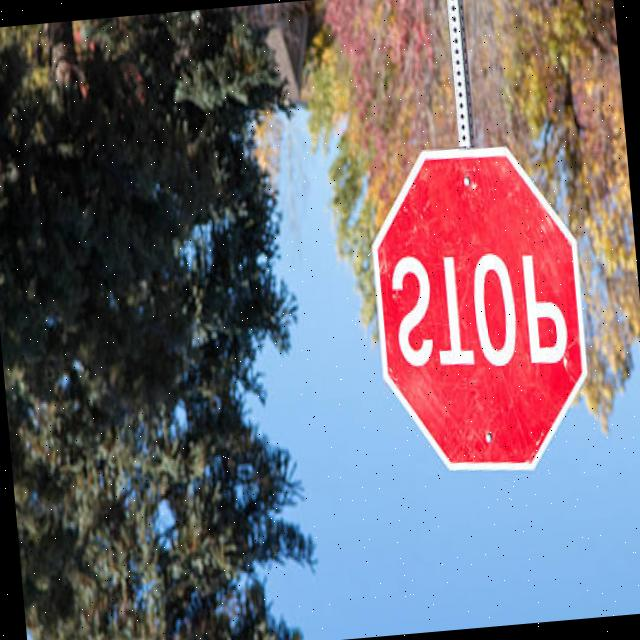stop: (356, 126, 603, 489)
